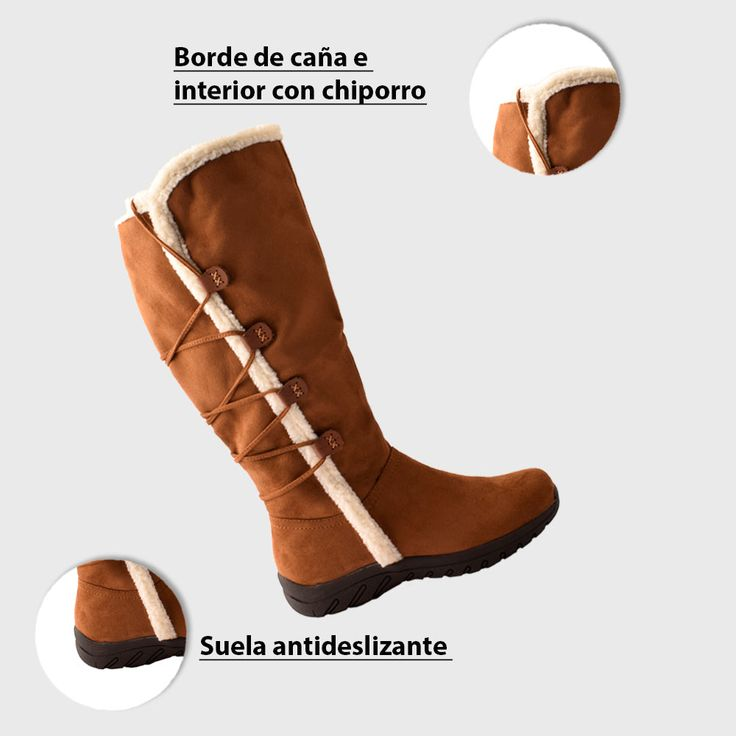gamuza: (75, 83, 621, 641)
